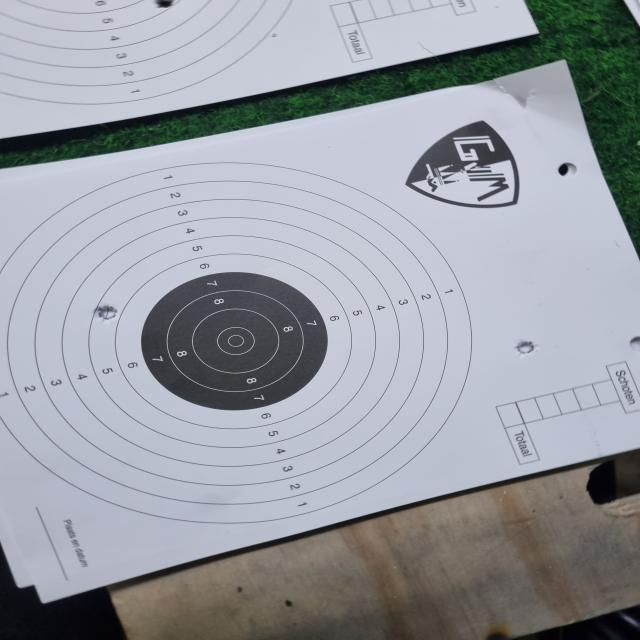0: (514, 340, 537, 356)
5: (94, 305, 118, 321)
Target: (0, 162, 473, 524)
black_contour: (140, 272, 329, 411)
